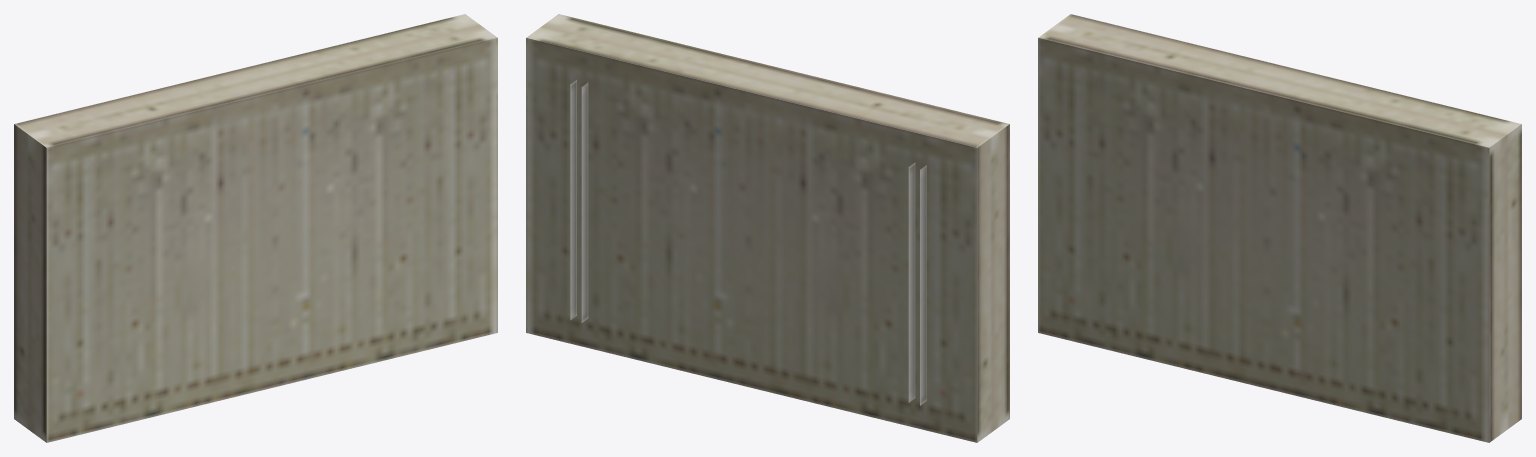
Rendered from Radiator01.obj.
The picture shows the model from 3 angles, left to right: view 1: azimuth 30°, elevation 25°; view 2: azimuth 150°, elevation 25°; view 3: azimuth 330°, elevation 25°; orthographic projection.
Visible parts, largest first — view 1: Radiator01; view 2: Radiator01; view 3: Radiator01.
Part boxes in pixels (x1,y1,x2,y2): Radiator01: (14,14,497,442); Radiator01: (526,14,1009,442); Radiator01: (1038,14,1521,442).
Size of the model in its own units: 2 by 1.25 by 0.3.
